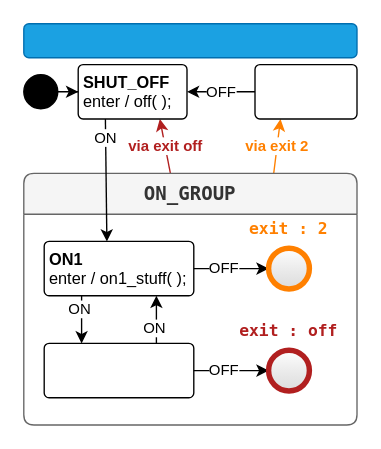
The diagram is 381 pixels wide and 449 high, and some of its shapes have lost their labels. The box of each missing label's shape, as (x1, y1, x2, y2) in pixels:
$STATEMACHINE : exit_pt: (22, 22, 357, 58)
HALTED enter / halt();: (254, 63, 357, 119)
ON2 enter / on2_stuff( );: (43, 342, 194, 398)
